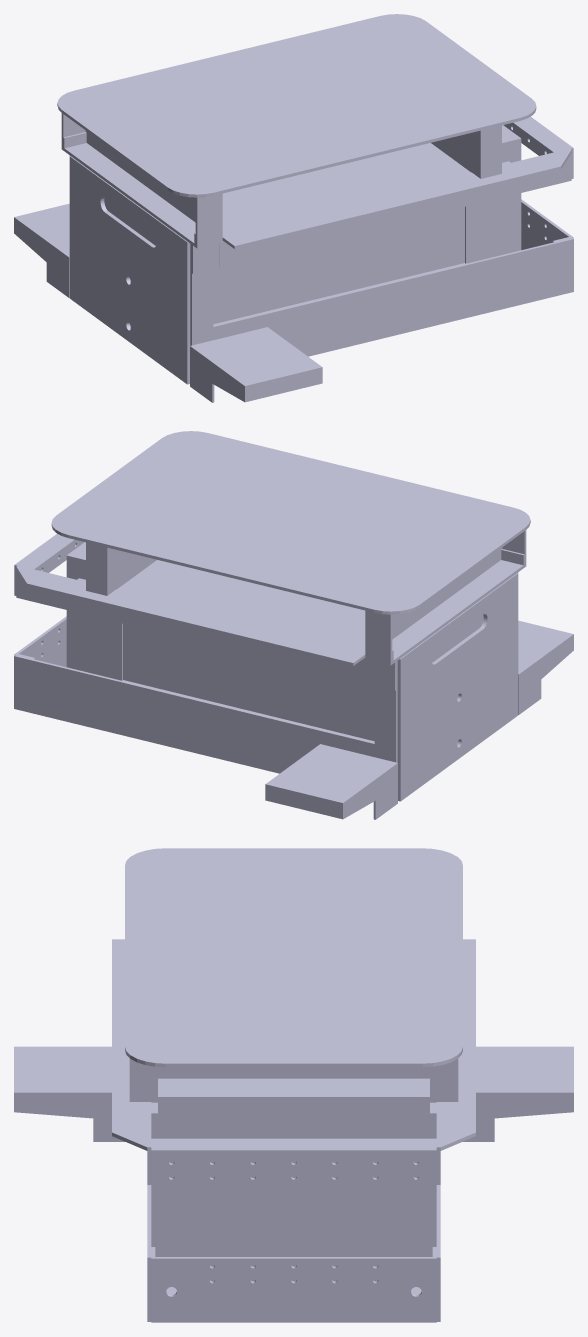
The model's file is Unnamed_magni_body.dae.dae.
The picture shows the model from 3 angles, top to bottom: view 1: azimuth 30°, elevation 25°; view 2: azimuth 150°, elevation 25°; view 3: azimuth 270°, elevation 25°; orthographic projection. The views are drawn at different scales.
Visible parts, largest first — view 1: node0; view 2: node0; view 3: node0.
Boxes of the visible parts, x1,y1,x2,y2 form: node0: (14, 14, 573, 402); node0: (14, 431, 573, 819); node0: (14, 848, 573, 1322).
Bounding box in the file's own units: 0.412 × 0.412 × 0.194.
